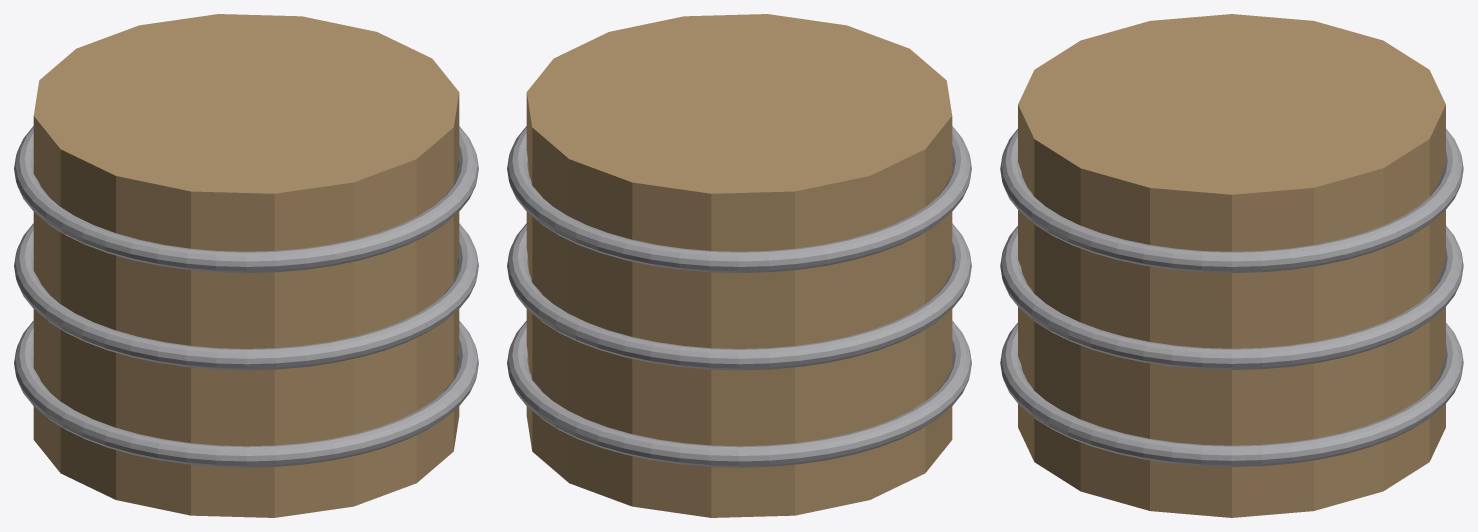
The model's file is prop_barrel.glb.
3 renders of one model, left to right at view 1: azimuth 30°, elevation 25°; view 2: azimuth 150°, elevation 25°; view 3: azimuth 270°, elevation 25°, orthographic.
Visible parts, largest first — view 1: Barrel, Barrel_Band_25, Barrel_Band_40, Barrel_Band_10; view 2: Barrel, Barrel_Band_25, Barrel_Band_40, Barrel_Band_10; view 3: Barrel, Barrel_Band_10, Barrel_Band_25, Barrel_Band_40.
Boxes of the visible parts, left/top/right/bottom form: Barrel: left=33, top=14, right=459, bottom=517; Barrel_Band_25: left=14, top=223, right=478, bottom=370; Barrel_Band_40: left=14, top=126, right=478, bottom=272; Barrel_Band_10: left=14, top=321, right=478, bottom=467; Barrel: left=526, top=14, right=952, bottom=517; Barrel_Band_25: left=507, top=223, right=971, bottom=370; Barrel_Band_40: left=507, top=126, right=971, bottom=272; Barrel_Band_10: left=507, top=321, right=971, bottom=467; Barrel: left=1018, top=14, right=1445, bottom=517; Barrel_Band_10: left=1000, top=323, right=1463, bottom=466; Barrel_Band_25: left=1000, top=226, right=1463, bottom=369; Barrel_Band_40: left=1000, top=129, right=1463, bottom=272.
Bounding box in the file's own units: 0.65 × 0.5 × 0.65.
